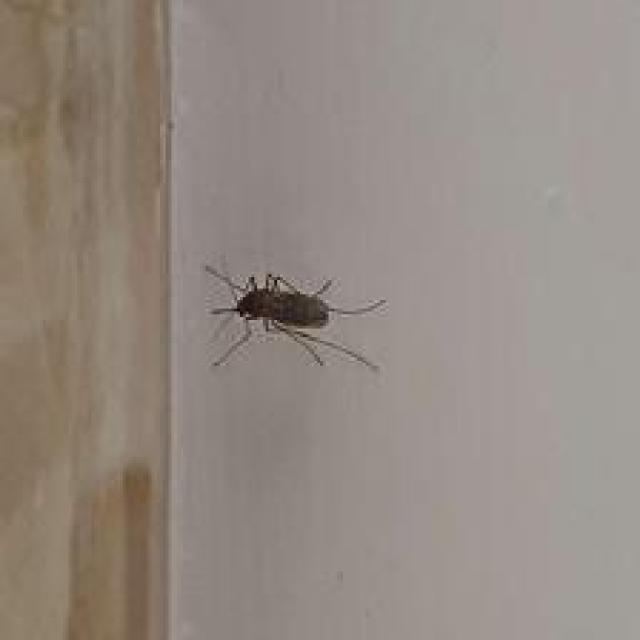Culex: (202, 261, 387, 373)
